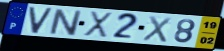2: (110, 12, 141, 43)
8: (173, 19, 197, 45)
N: (48, 8, 83, 37)
V: (28, 6, 55, 35)
X: (141, 15, 173, 44), (82, 10, 114, 39)
